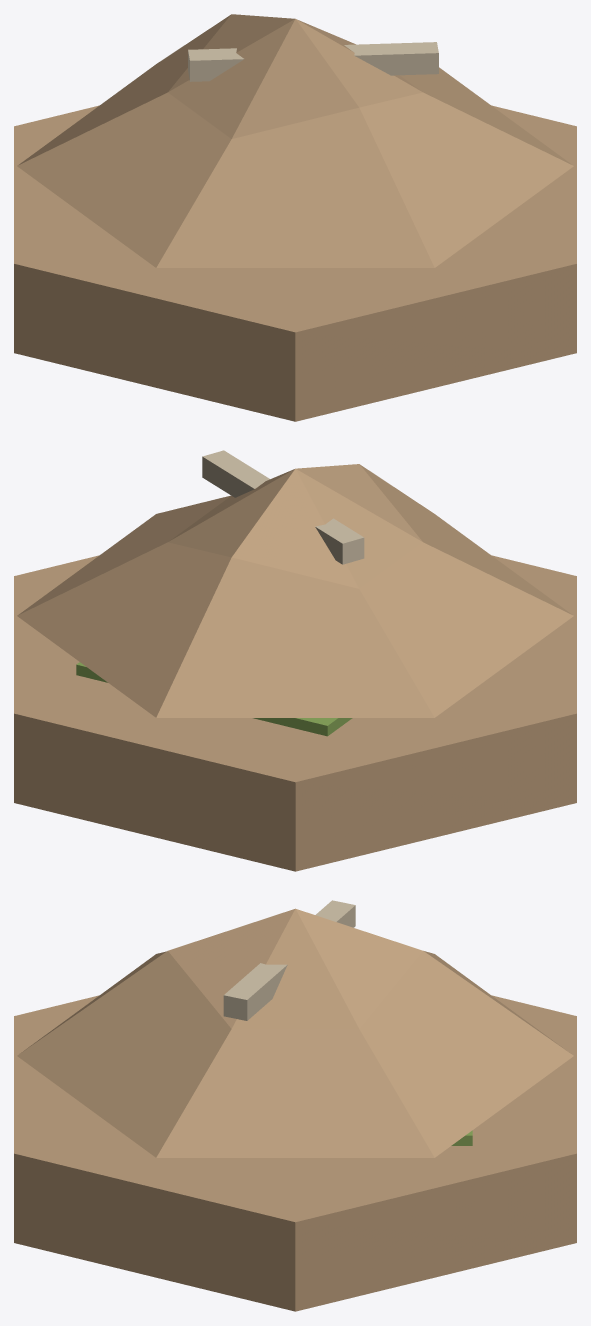
The model's file is terrain-hill-lod1.glb.
3 views of the same model, one above another, from view 1: azimuth 30°, elevation 25°; view 2: azimuth 150°, elevation 25°; view 3: azimuth 270°, elevation 25° (orthographic).
Visible parts, largest first — view 1: hill_slope, raised_hex_base, ridge_line; view 2: hill_slope, raised_hex_base, ridge_line, foot_blend; view 3: hill_slope, raised_hex_base, ridge_line.
Part boxes in pixels (<box>): hill_slope: <box>17,14,573,267</box>; raised_hex_base: <box>14,105,576,421</box>; ridge_line: <box>188,42,438,81</box>; hill_slope: <box>17,464,573,717</box>; raised_hex_base: <box>14,555,576,871</box>; ridge_line: <box>202,450,364,564</box>; foot_blend: <box>76,662,352,736</box>; hill_slope: <box>17,908,573,1157</box>; raised_hex_base: <box>14,995,576,1311</box>; ridge_line: <box>223,900,355,1020</box>.
Bounding box in the file's own units: 2.24 × 1.01 × 1.94.
